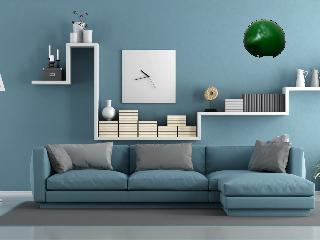lime: (243, 20, 284, 60)
